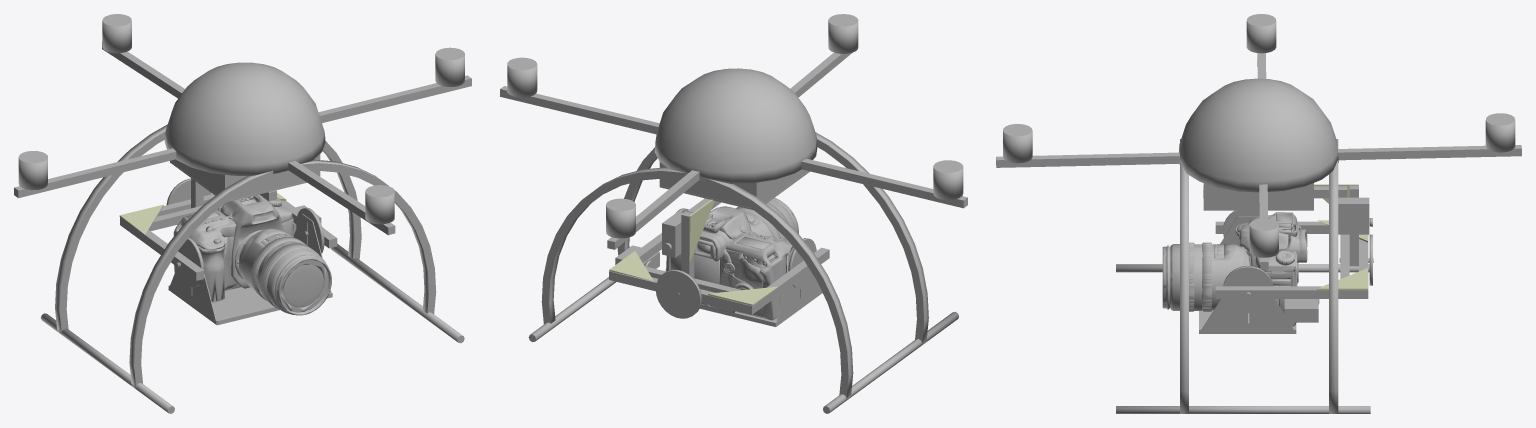
The model's file is QuadXL.DAE.
3 renders of one model, left to right at view 1: azimuth 30°, elevation 25°; view 2: azimuth 150°, elevation 25°; view 3: azimuth 270°, elevation 25°, orthographic.
Visible parts, largest first — view 1: Quadro_Bulle, Lens, Quadro_TrainAvant, digital_single_lens_camera, Quadro_TrainArriere, Quadro_BrasLateral, Box007, Quadro_BlocBatterie, Quadro_TrainGche, Quadro_TrainDte, Quadro_brasLongitudinalAvant, Box010 (+12 smaller); view 2: Quadro_Bulle, digital_single_lens_camera, Quadro_TrainArriere, Quadro_BrasLateral, Quadro_TrainAvant, Cylinder002, Quadro_BlocBatterie, Quadro_TrainDte, Quadro_brasLongitudinalArriere, Quadro_moteur04, Quadro_moteur01, Quadro_moteur02 (+15 smaller); view 3: Quadro_Bulle, Lens, digital_single_lens_camera, Quadro_TrainArriere, Quadro_TrainAvant, Box008, Quadro_BlocBatterie, Quadro_brasLongitudinalAvant, Quadro_brasLongitudinalArriere, Quadro_TrainGche, Box005, Cylinder005 (+9 smaller).
Boxes of the visible parts, x1,y1,x2,y2 form: Quadro_Bulle: (164,62,325,175); Lens: (239,228,331,315); Quadro_TrainAvant: (129,159,436,388); digital_single_lens_camera: (173,194,293,302); Quadro_TrainArriere: (55,124,361,334); Quadro_BrasLateral: (14,75,471,198); Box007: (168,285,332,325); Quadro_BlocBatterie: (170,154,320,199); Quadro_TrainGche: (331,244,464,343); Quadro_TrainDte: (41,313,174,413); Quadro_brasLongitudinalAvant: (288,160,395,235); Box010: (168,268,217,324); Quadro_Bulle: (654,68,817,183); digital_single_lens_camera: (666,206,794,320); Quadro_TrainArriere: (541,167,853,400); Quadro_BrasLateral: (500,86,967,208); Quadro_TrainAvant: (617,132,928,344); Cylinder002: (655,269,701,318); Quadro_BlocBatterie: (659,162,808,207); Quadro_TrainDte: (823,311,958,413); Quadro_brasLongitudinalArriere: (607,170,699,249); Quadro_moteur04: (507,57,537,97); Quadro_moteur01: (828,14,858,53); Quadro_moteur02: (933,160,963,199); Quadro_Bulle: (1178,78,1338,192); Lens: (1162,242,1249,311); digital_single_lens_camera: (1235,212,1307,326); Quadro_TrainArriere: (1329,139,1338,413); Quadro_TrainAvant: (1180,139,1188,413); Box008: (1199,299,1295,333); Quadro_BlocBatterie: (1203,183,1313,208); Quadro_brasLongitudinalAvant: (996,152,1179,167); Quadro_brasLongitudinalArriere: (1338,145,1521,160); Quadro_TrainGche: (1116,406,1370,413); Box005: (1215,286,1368,298); Cylinder005: (1223,265,1273,313).
Size of the model in its own units: 0.62 by 0.6197 by 0.335.
